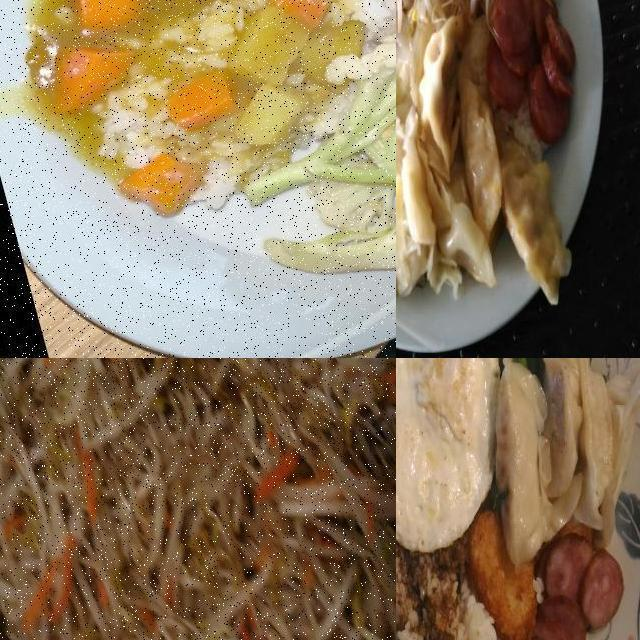Rice: (396, 548, 497, 640)
chinese_cabbage: (396, 91, 434, 304)
chinese_sausage: (487, 0, 576, 143), (511, 527, 623, 640)
curry: (0, 0, 382, 248)
fried_chicken: (396, 0, 460, 135)
fried_dumplings: (489, 358, 640, 565), (422, 18, 511, 280), (496, 128, 574, 306)
fried_eggs: (396, 358, 499, 553)
mung_bean_sprouts: (0, 358, 396, 640), (396, 0, 501, 83)
triangle_hash_brown: (466, 509, 538, 640)
